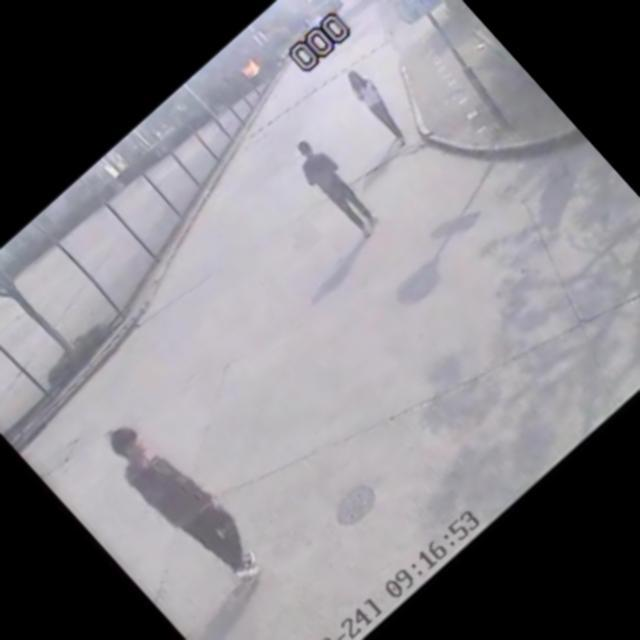person: (69, 378, 299, 618), (262, 114, 399, 257), (328, 56, 422, 154)
